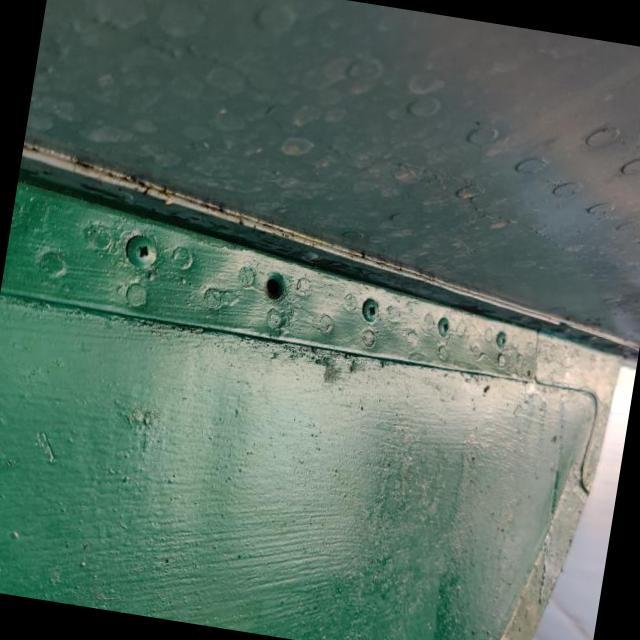Fastener Damage: (238, 246, 317, 331)
